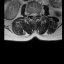CCS_stenosis: (33, 11, 35, 19)
LFS_normal: (37, 11, 39, 17)
LLS_normal: (35, 11, 37, 18)
RFS_normal: (29, 11, 31, 18)
RLS_normal: (31, 11, 33, 18)
